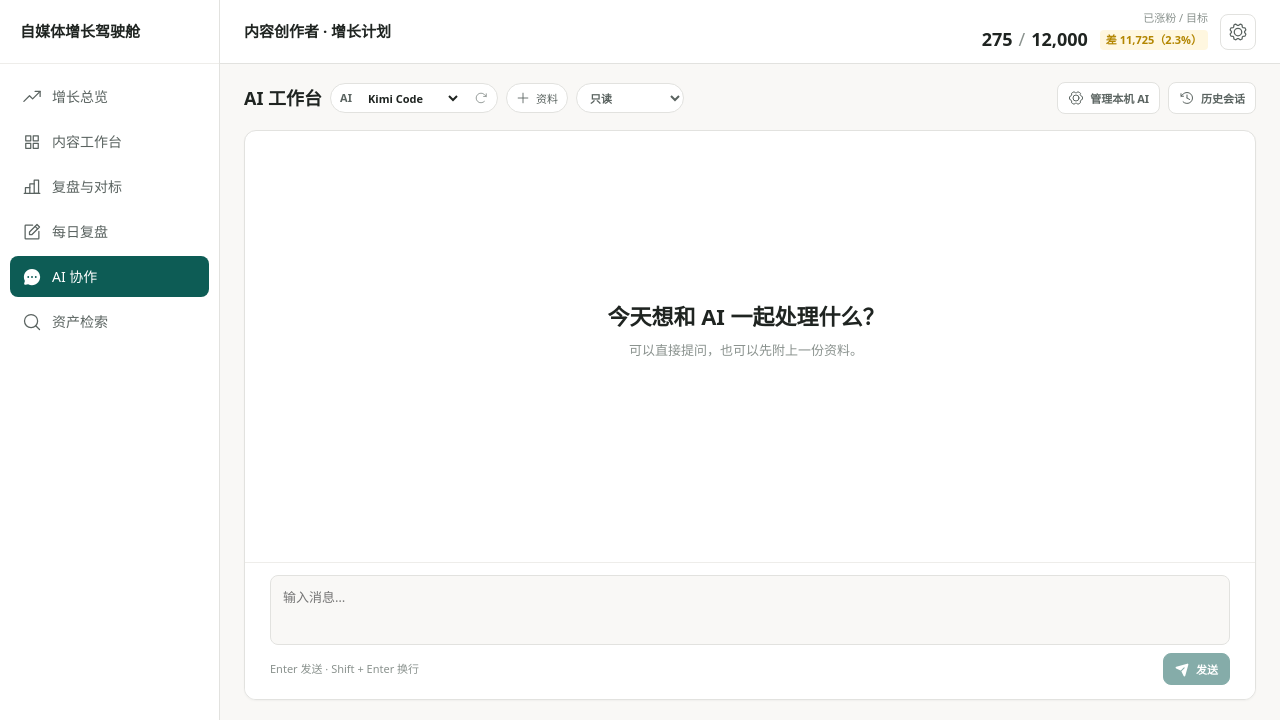
Scenario: AI conversation workbench › starts as a long-lived chat and creates a context-free conversation from the first message
This screenshot has width=1280, height=720.
Expected: the heading "今天想和 AI 一起处理什么？" is shown, [607, 300, 885, 333]
Expected: the element with class "ai-message-scroll" is shown, [607, 301, 885, 359]
Type "帮我一起梳理今天的创作重点" into the text box named "继续提问". click: (750, 610)
box: [270, 575, 1230, 645]
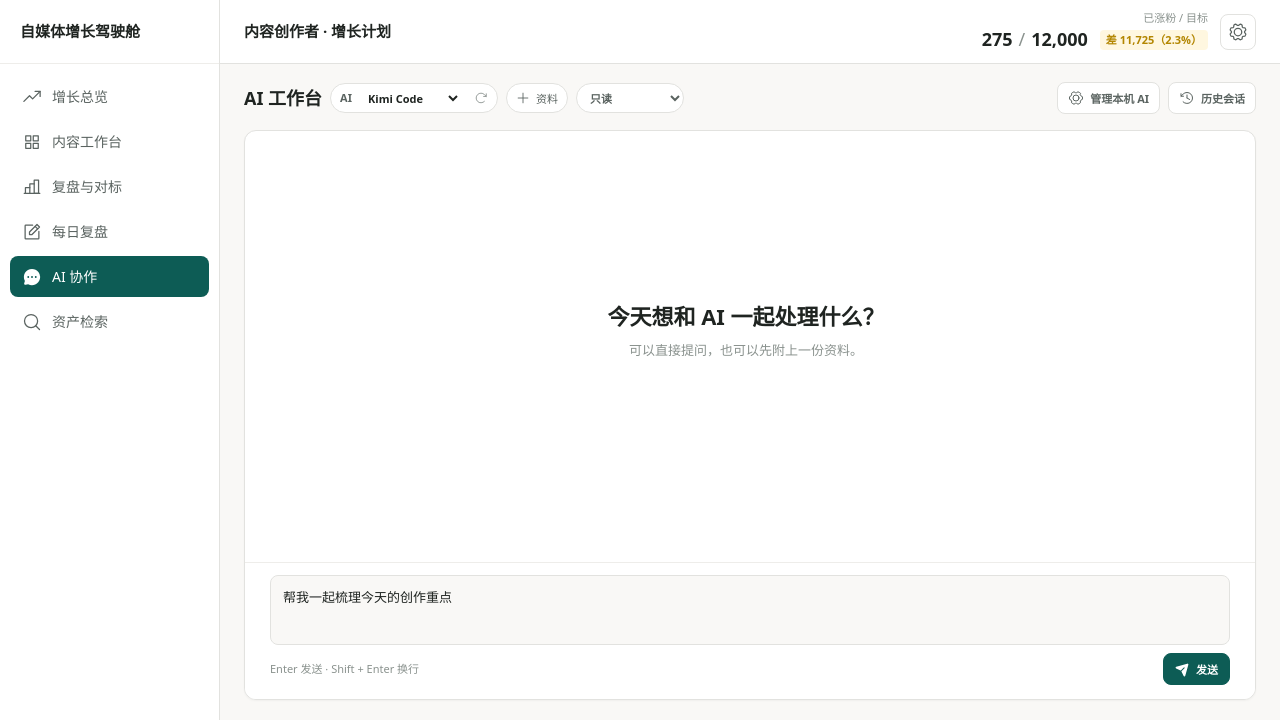
Click the button "发送". click: (1196, 669)
box: [1163, 653, 1230, 685]
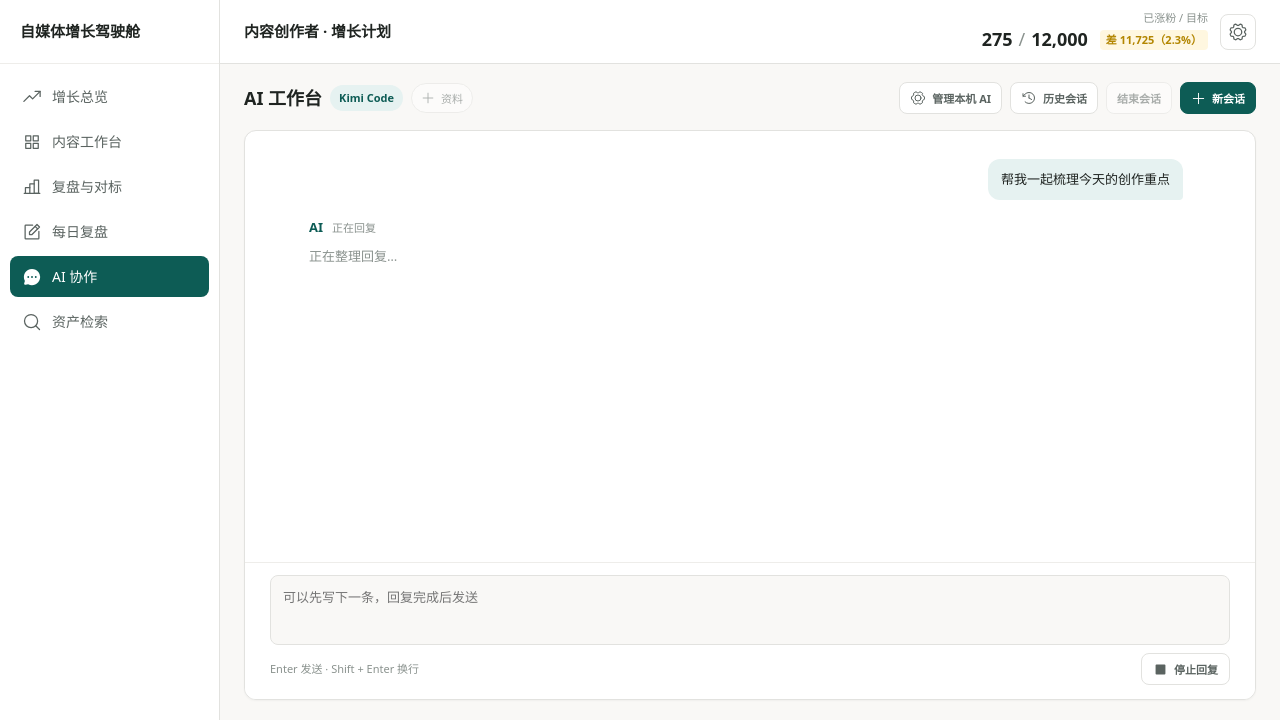
Expected: the text "帮我一起梳理今天的创作重点" is shown, [1001, 169, 1170, 190]
